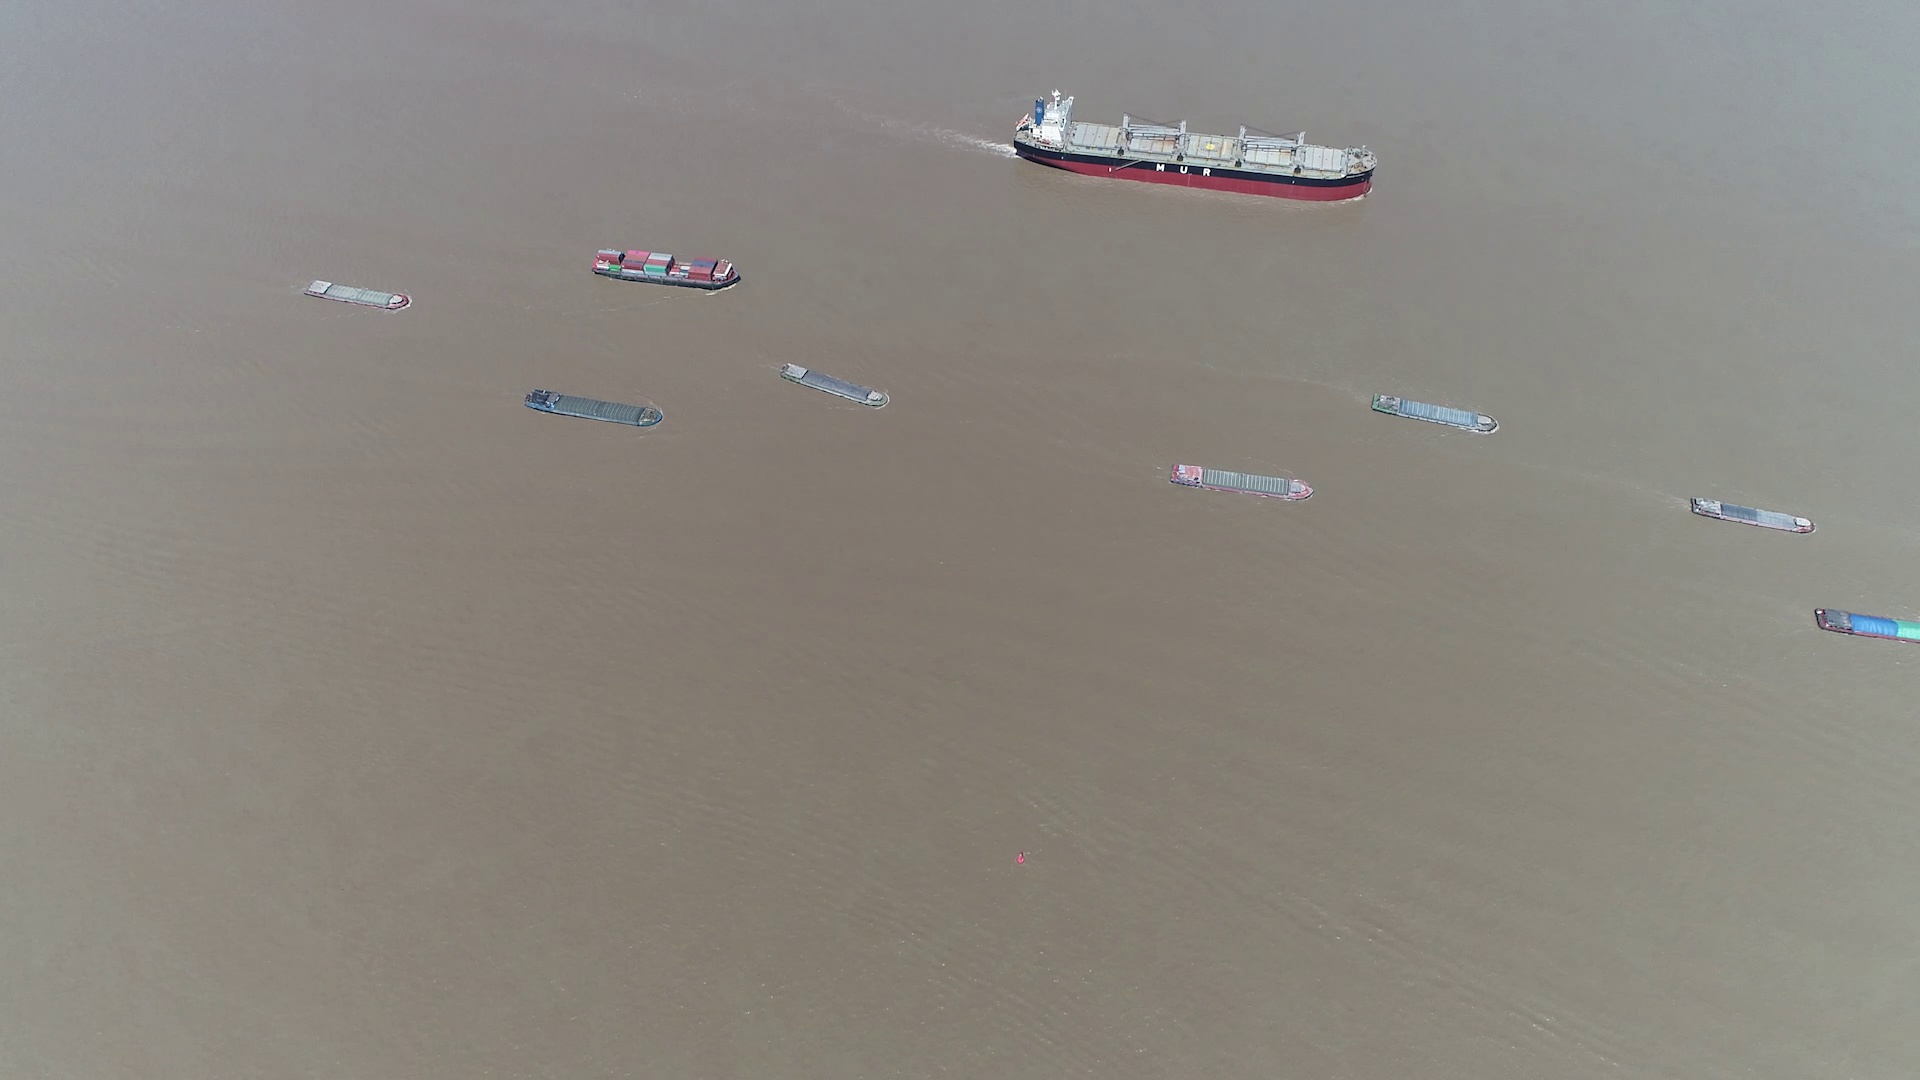ship: (1009, 94, 1375, 199), (591, 248, 742, 291), (1367, 392, 1501, 435), (524, 389, 663, 429), (1168, 462, 1312, 500), (1689, 495, 1815, 535), (781, 363, 890, 407), (1816, 607, 1920, 644), (305, 278, 411, 310)
